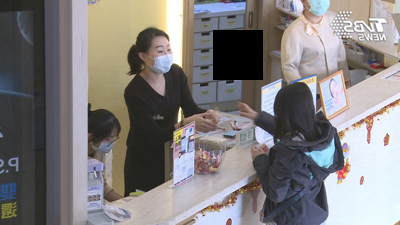with_mask: (148, 43, 173, 76), (92, 132, 119, 156)
